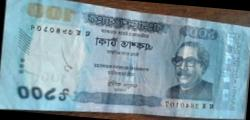100 taka: (9, 1, 244, 116)
